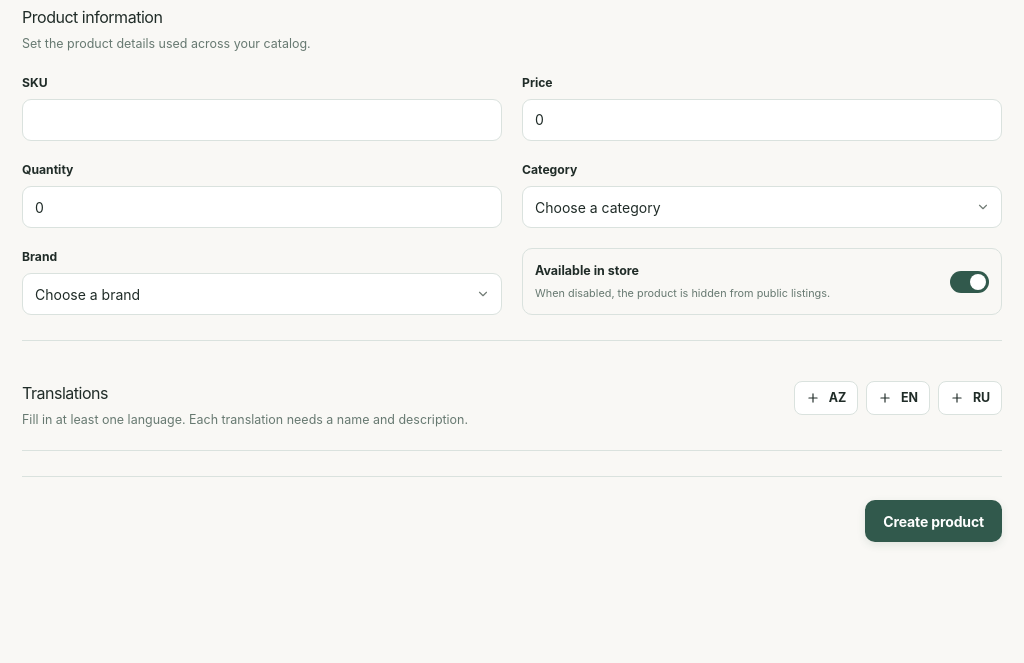
Test case: product translation tabs › adds and displays a language tab when a translation is selected
Click the button "AZ": [826, 398] box top-left (794, 381), bottom-right (858, 415)
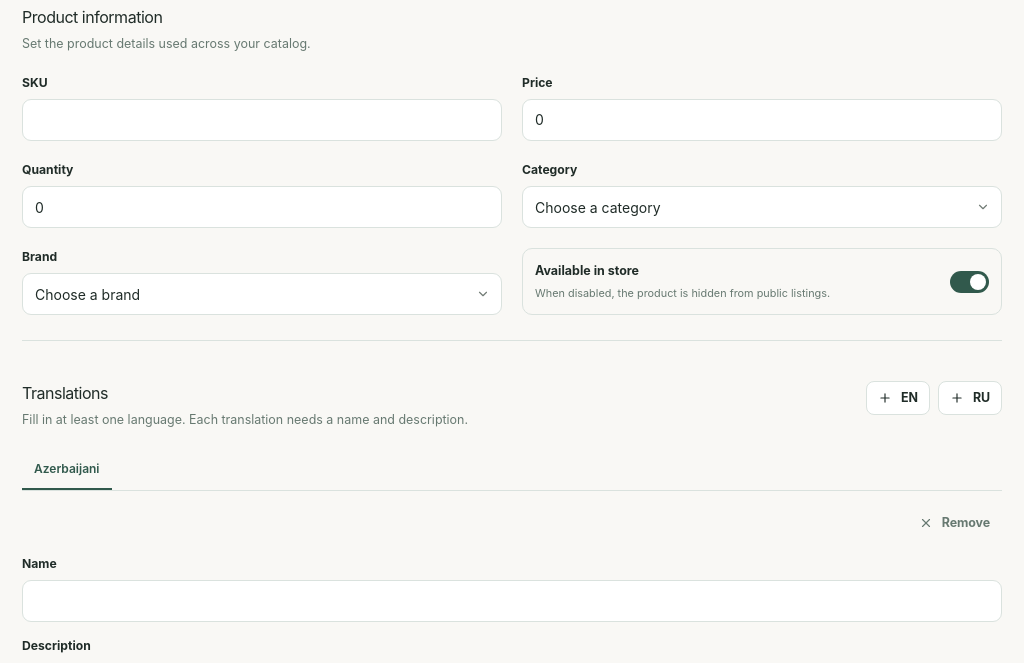
Check: the tab "Azerbaijani" is shown, box top-left (22, 450), bottom-right (112, 490)
Check: the field labelled "Name" is shown, box top-left (22, 580), bottom-right (1002, 622)
